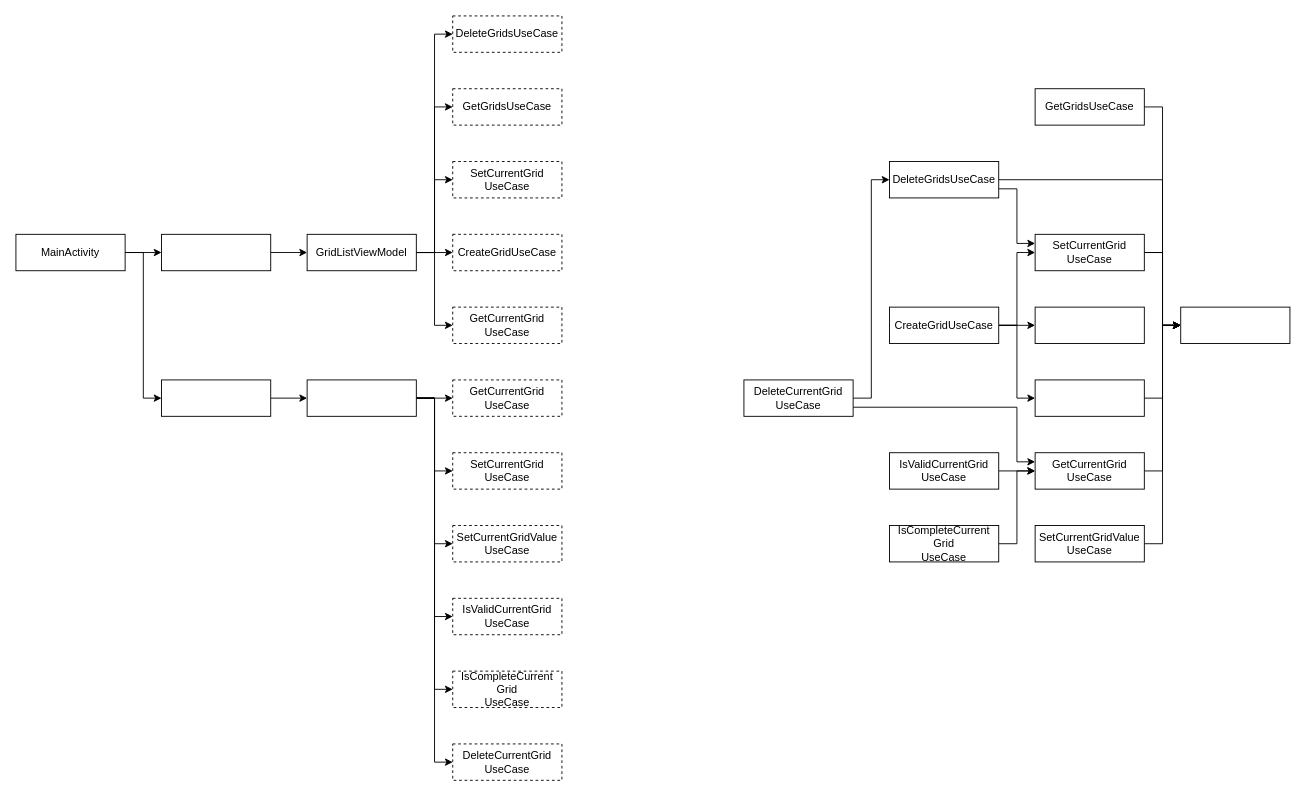
Some shapes in this 1306 by 796 pixel diagram are drawn without their labels. Here are the shapes that lost their labels. From the top down, the centre of each, then its label:
[216,252]: GridListFragment
[1089,325]: GenerateGrid UseCase
[1235,325]: GridRepository
[216,397]: GridFragment
[361,397]: GridViewModel
[1089,397]: AddGrid UseCase
